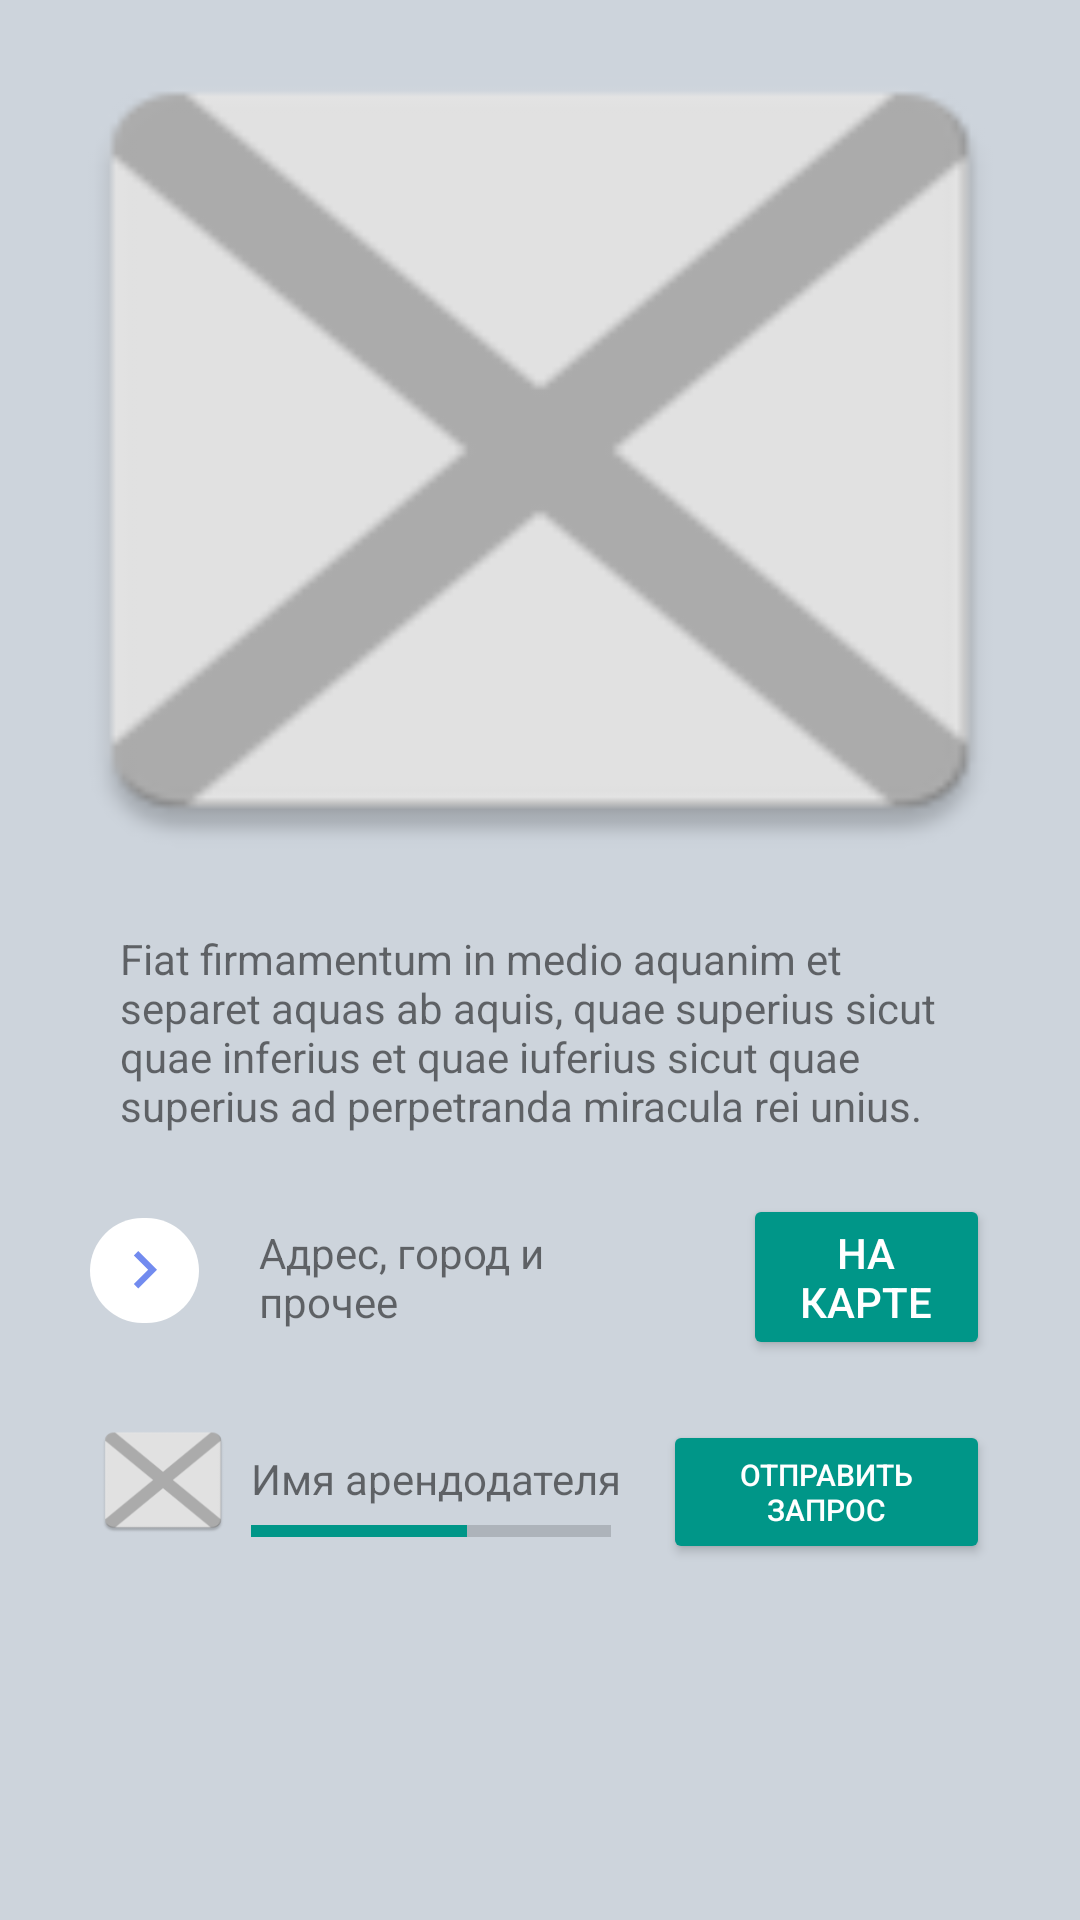

Named icons in this screenshot (1080px×1920px) and their centers, (x,y):
keyboard arrow right: (144,1270)
